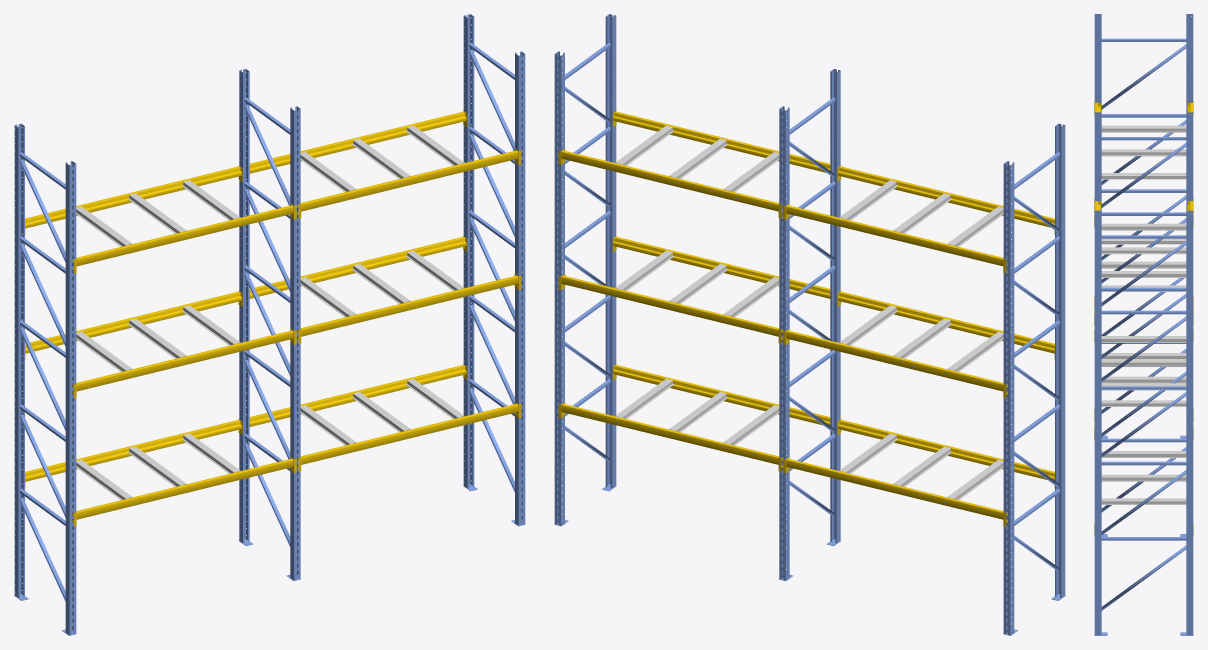
Rendered from shelves_high2.dae.
3 renders of one model, left to right at view 1: azimuth 30°, elevation 25°; view 2: azimuth 150°, elevation 25°; view 3: azimuth 270°, elevation 25°, orthographic. The views are drawn at different scales.
Visible parts, largest first — view 1: instance_2_019; view 2: instance_2_019; view 3: instance_2_019.
Boxes of the visible parts, <box> form: instance_2_019: <box>14,14,525,635</box>; instance_2_019: <box>554,14,1065,635</box>; instance_2_019: <box>1094,14,1193,635</box>.
Size of the model in its own units: 5.11 by 1.07 by 5.03.
